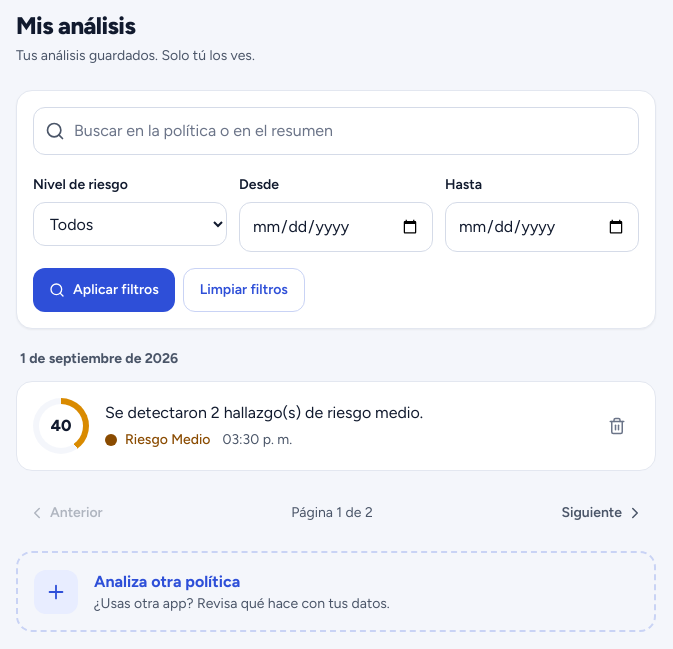
Test: Historial › pagina los resultados
Expected: the text "Página 1 de 2" is shown, [291, 503, 373, 523]
Expected: the button "Anterior" is disabled, [16, 491, 115, 535]
Click the button "Siguiente" at point(603, 513), box [550, 491, 656, 535]
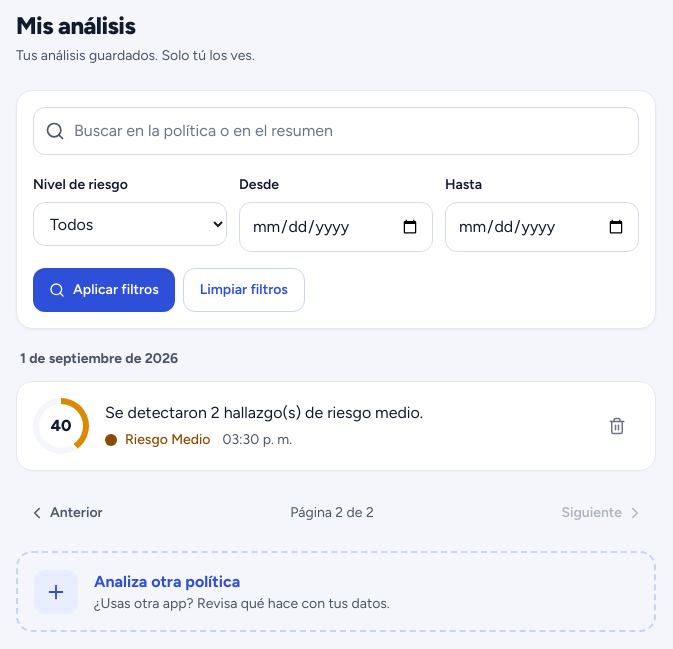
Now the text "Página 2 de 2" is shown, box [290, 503, 374, 523]
Now the button "Siguiente" is disabled, box [550, 491, 656, 535]
